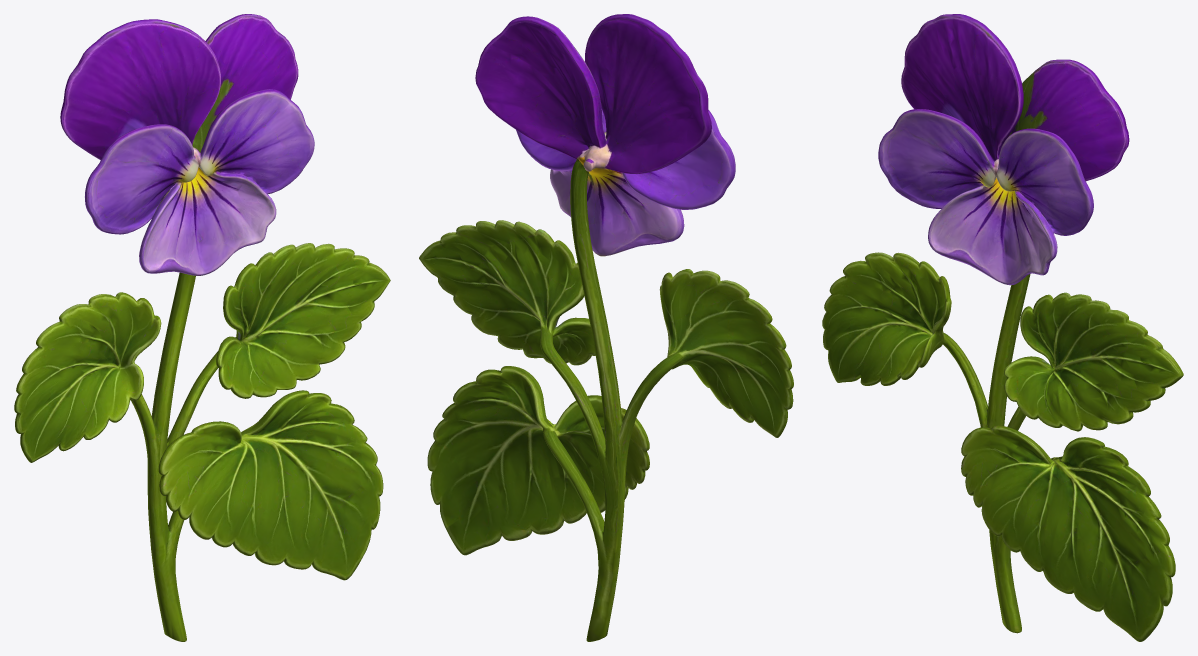
The model's file is violet.glb.
3 views of the same model, side by side, from view 1: azimuth 30°, elevation 25°; view 2: azimuth 150°, elevation 25°; view 3: azimuth 330°, elevation 25° (orthographic). The views are drawn at different scales.
Size of the model in its own units: 1.18 by 1.9 by 0.1994.
Materials: 1 (1 with a texture image).
